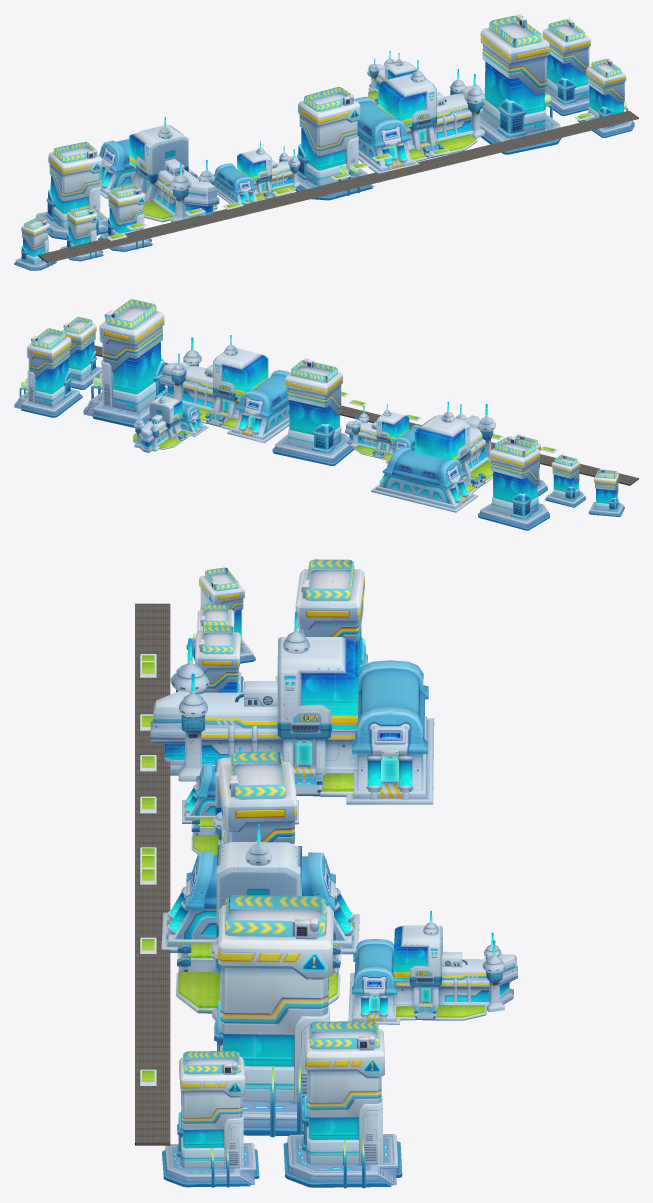
File: level.glb
3 views of the same model, one above another, from view 1: azimuth 30°, elevation 25°; view 2: azimuth 150°, elevation 25°; view 3: azimuth 270°, elevation 25° (orthographic). The views are drawn at different scales.
Visible parts, largest first — view 1: xszy_jianzhu_07_xszy_jianzhu_07_0.001, xszy_jianzhu_01_xszy_jianzhu_01_0, xszy_jianzhu_01_xszy_jianzhu_01_0.001, xszy_jianzhu_07_xszy_jianzhu_07_0, Plane; view 2: xszy_jianzhu_07_xszy_jianzhu_07_0.001, xszy_jianzhu_01_xszy_jianzhu_01_0.001, xszy_jianzhu_01_xszy_jianzhu_01_0, xszy_jianzhu_07_xszy_jianzhu_07_0, Plane; view 3: xszy_jianzhu_07_xszy_jianzhu_07_0.001, xszy_jianzhu_01_xszy_jianzhu_01_0, xszy_jianzhu_01_xszy_jianzhu_01_0.001, Plane, xszy_jianzhu_07_xszy_jianzhu_07_0.
Part boxes in pixels (left/top/right/bottom): xszy_jianzhu_07_xszy_jianzhu_07_0.001: left=295, top=14, right=634, bottom=200; xszy_jianzhu_01_xszy_jianzhu_01_0: left=98, top=117, right=300, bottom=222; xszy_jianzhu_01_xszy_jianzhu_01_0.001: left=354, top=50, right=485, bottom=173; xszy_jianzhu_07_xszy_jianzhu_07_0: left=14, top=141, right=153, bottom=270; Plane: left=38, top=110, right=638, bottom=263; xszy_jianzhu_07_xszy_jianzhu_07_0.001: left=14, top=299, right=354, bottom=465; xszy_jianzhu_01_xszy_jianzhu_01_0.001: left=133, top=335, right=290, bottom=452; xszy_jianzhu_01_xszy_jianzhu_01_0: left=345, top=401, right=495, bottom=512; xszy_jianzhu_07_xszy_jianzhu_07_0: left=478, top=434, right=624, bottom=530; Plane: left=94, top=345, right=638, bottom=485; xszy_jianzhu_07_xszy_jianzhu_07_0.001: left=162, top=751, right=402, bottom=1188; xszy_jianzhu_01_xszy_jianzhu_01_0: left=150, top=612, right=434, bottom=855; xszy_jianzhu_01_xszy_jianzhu_01_0.001: left=161, top=824, right=517, bottom=1024; Plane: left=135, top=603, right=170, bottom=1145; xszy_jianzhu_07_xszy_jianzhu_07_0: left=186, top=559, right=367, bottom=692.
Bounding box in the file's own units: 73.93 × 12.34 × 21.56.
Materials: 3 (3 with a texture image).
